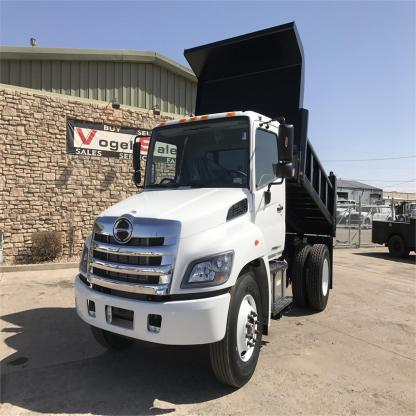dump_truck: (78, 27, 361, 387)
